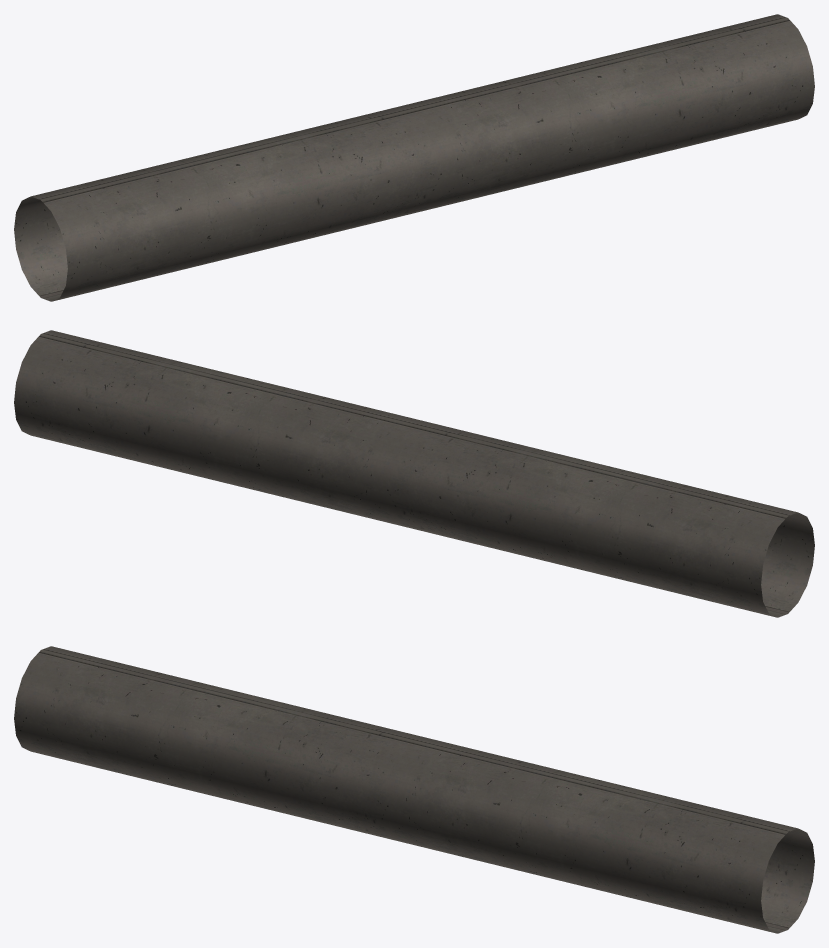
File: com_pipe_8x128_white_clean_lod0.glb
The picture shows the model from 3 angles, top to bottom: view 1: azimuth 30°, elevation 25°; view 2: azimuth 150°, elevation 25°; view 3: azimuth 330°, elevation 25°; orthographic projection.
Parts seen in each view (by area): view 1: surf0; view 2: surf0; view 3: surf0.
Boxes of the visible parts, <box> form: surf0: <box>14,14,814,301</box>; surf0: <box>14,330,814,617</box>; surf0: <box>14,646,814,933</box>.
Size of the model in its own units: 128 by 16 by 16.
